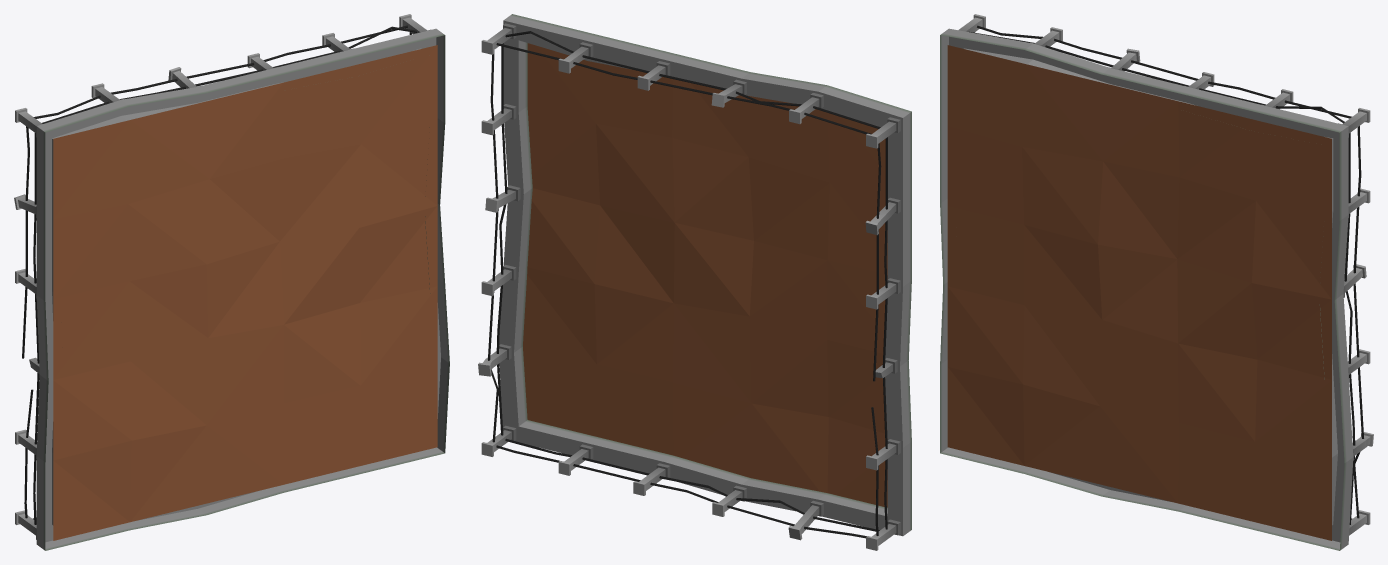
Rendered from map.fbx.
3 renders of one model, left to right at view 1: azimuth 30°, elevation 25°; view 2: azimuth 150°, elevation 25°; view 3: azimuth 330°, elevation 25°, orthographic.
Visible parts, largest first — view 1: Map; view 2: Map; view 3: Map.
Part boxes in pixels (x1=…): Map: x1=14, y1=14, x2=449, y2=550; Map: x1=478, y1=14, x2=911, y2=550; Map: x1=940, y1=14, x2=1373, y2=550.
Bounding box in the file's own units: 5262 × 5349 × 822.
Materials: 1 (1 with a texture image).
